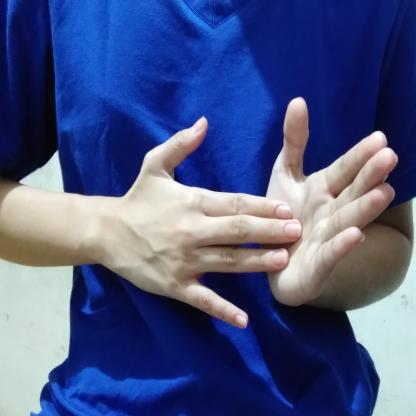mother: (106, 88, 404, 340)
